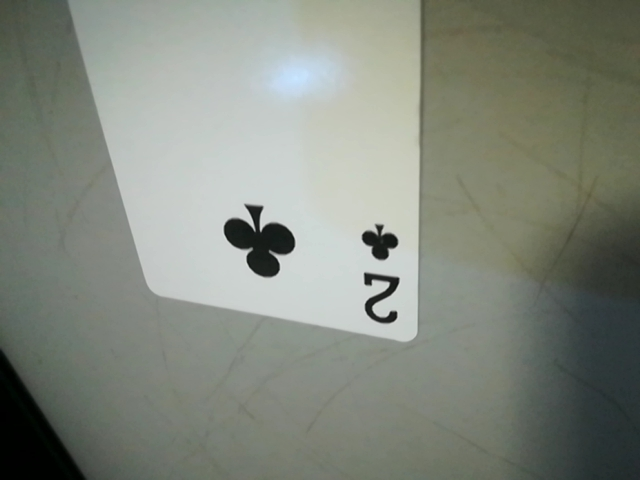mh 2: (345, 212, 418, 337)
